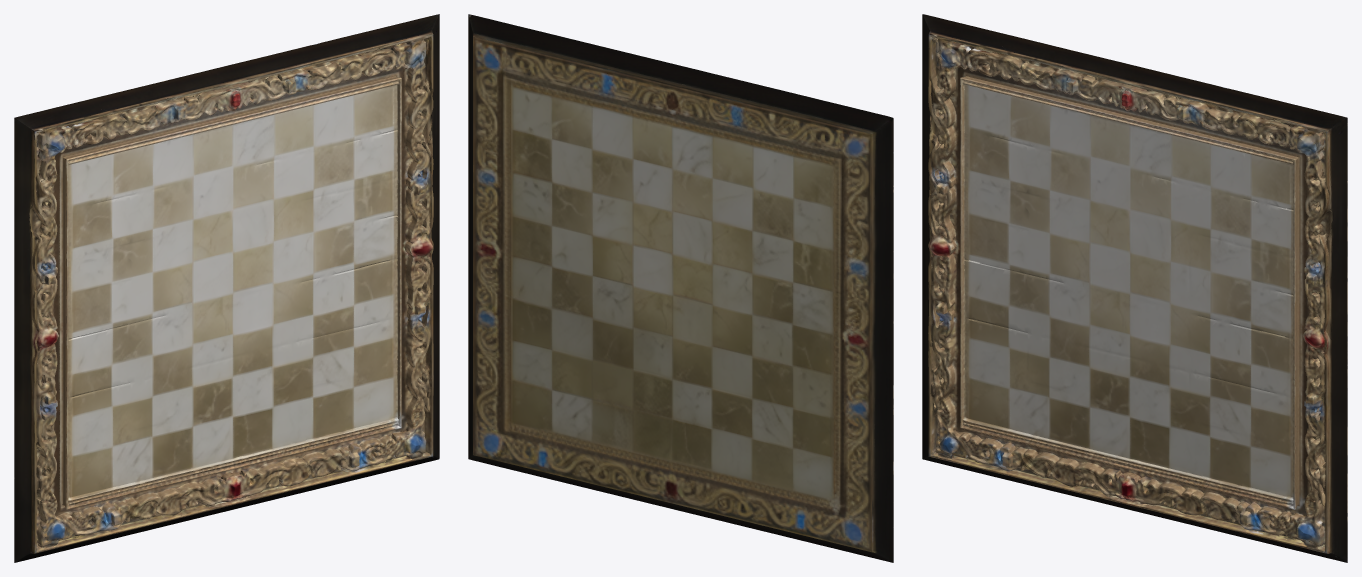
The model's file is vic-board.glb.
3 renders of one model, left to right at view 1: azimuth 30°, elevation 25°; view 2: azimuth 150°, elevation 25°; view 3: azimuth 330°, elevation 25°, orthographic.
Parts seen in each view (by area): view 1: model; view 2: model; view 3: model.
Part boxes in pixels (bbox=[...]): model: bbox=[14, 14, 439, 562]; model: bbox=[468, 14, 893, 562]; model: bbox=[922, 14, 1347, 562].
Bounding box in the file's own units: 1.9 × 1.9 × 0.1493.
Materials: 1 (1 with a texture image).
